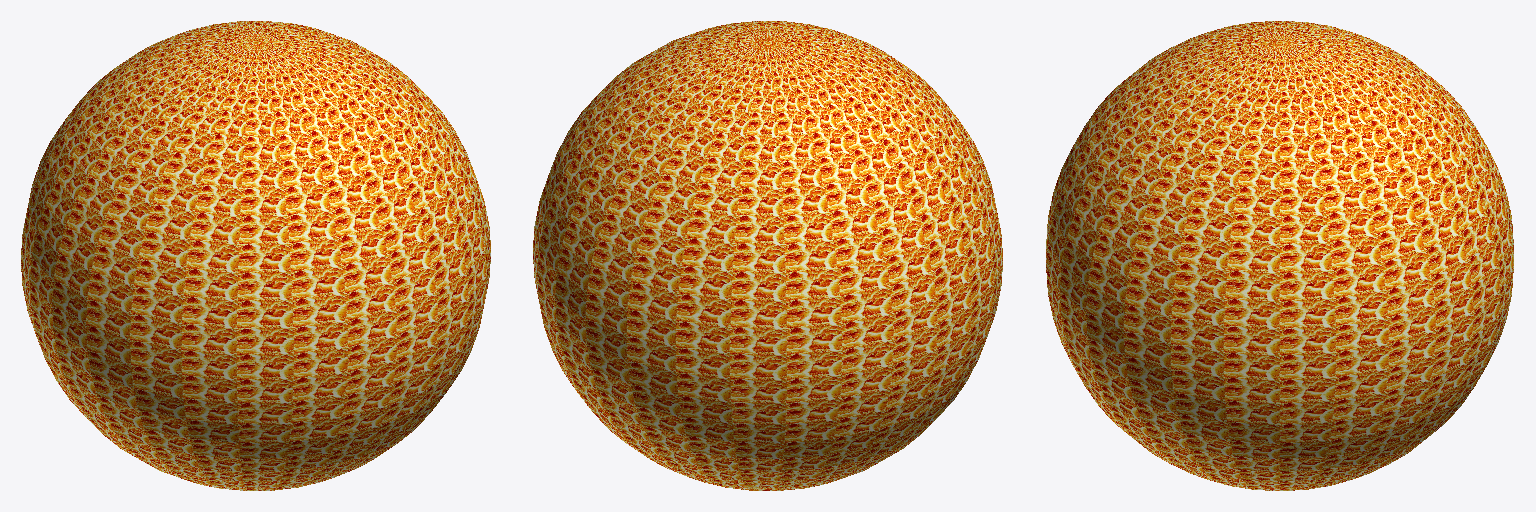
The picture shows the model from 3 angles: view 1: azimuth 30°, elevation 25°; view 2: azimuth 150°, elevation 25°; view 3: azimuth 270°, elevation 25°; orthographic projection.
Parts seen in each view (by area): view 1: Sphere_Sphere.001; view 2: Sphere_Sphere.001; view 3: Sphere_Sphere.001.
Boxes of the visible parts, <box> form: Sphere_Sphere.001: <box>21,21,490,490</box>; Sphere_Sphere.001: <box>533,21,1002,490</box>; Sphere_Sphere.001: <box>1046,21,1513,490</box>.
Size of the model in its own units: 20 by 20 by 19.85.
Materials: 1 (1 with a texture image).